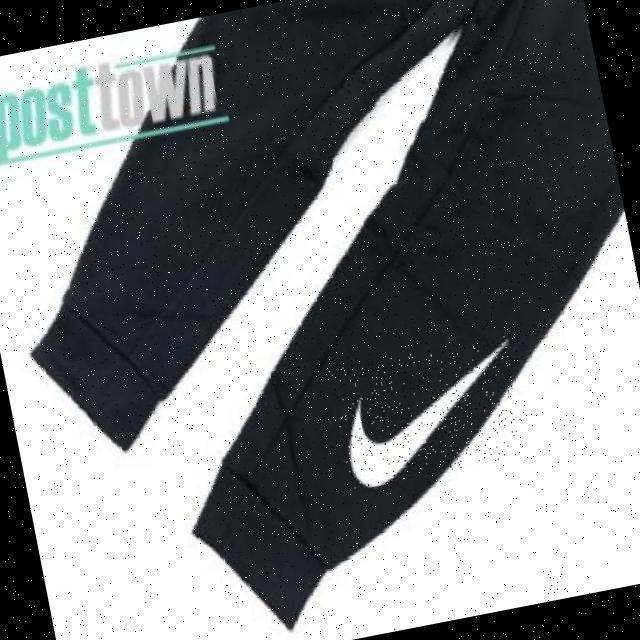Nike: (328, 335, 529, 489)
